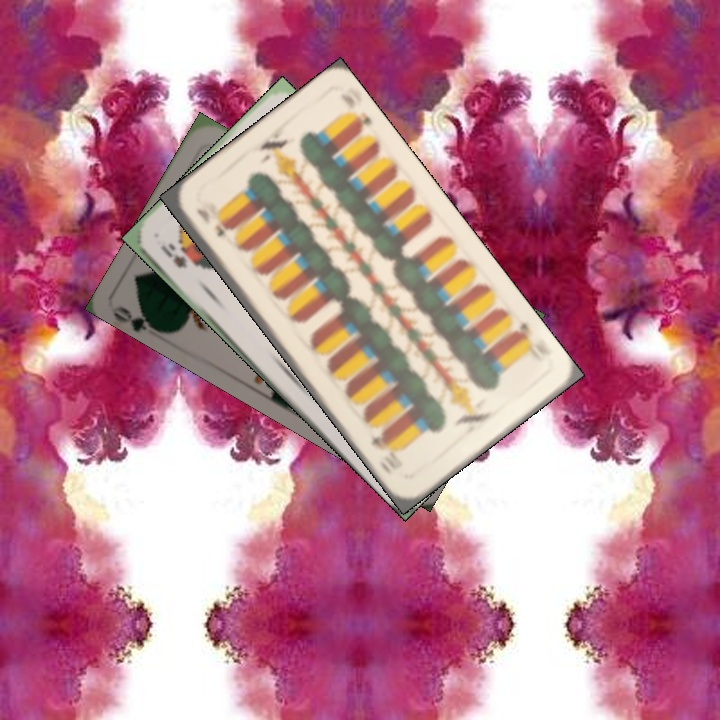E10: (507, 318, 548, 365), (192, 204, 228, 240)
GO: (111, 300, 168, 336)
SO: (156, 239, 190, 271)
